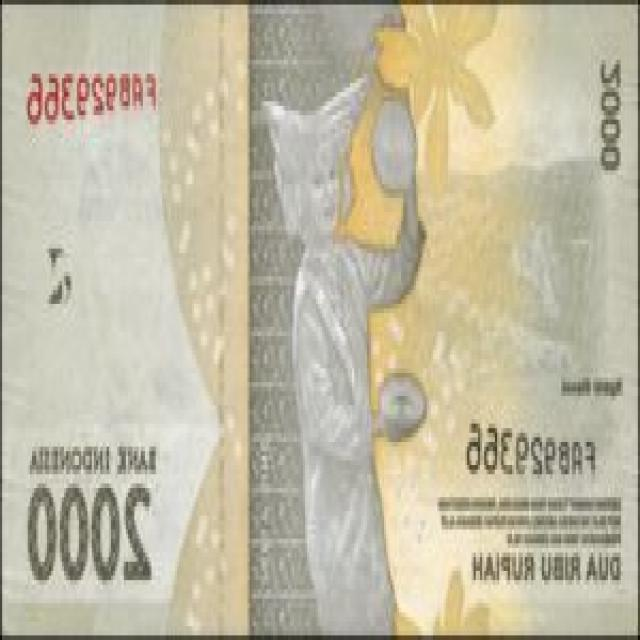dua ribu rupiah: (2, 8, 637, 639)
